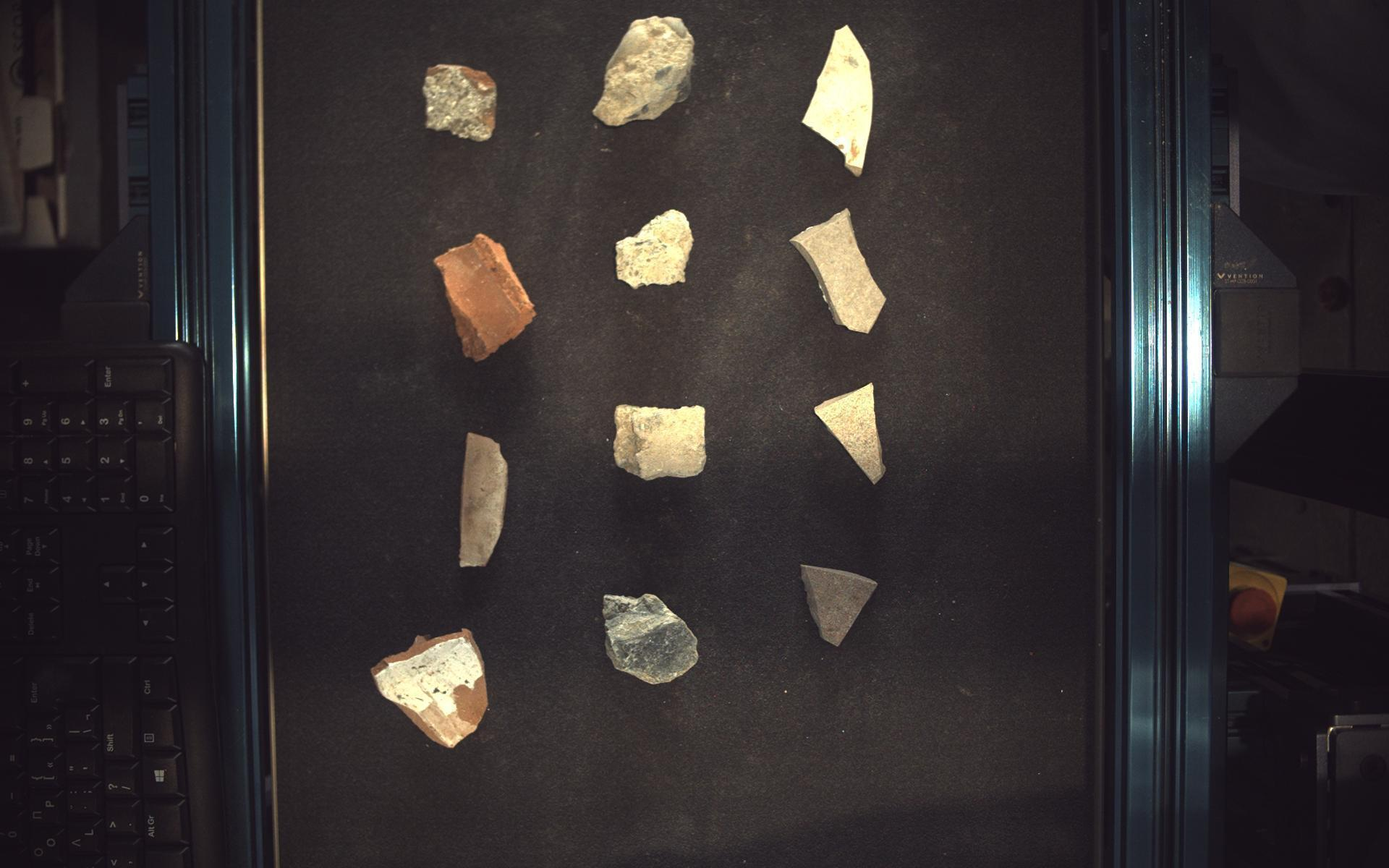brick: (371, 629, 488, 749), (434, 233, 536, 361), (459, 433, 508, 568), (422, 62, 497, 140)
concrete: (594, 14, 695, 125), (603, 595, 698, 686), (615, 404, 708, 480), (618, 209, 694, 288)
tile: (791, 209, 888, 333), (804, 25, 874, 175), (816, 383, 887, 484), (802, 566, 879, 647)
